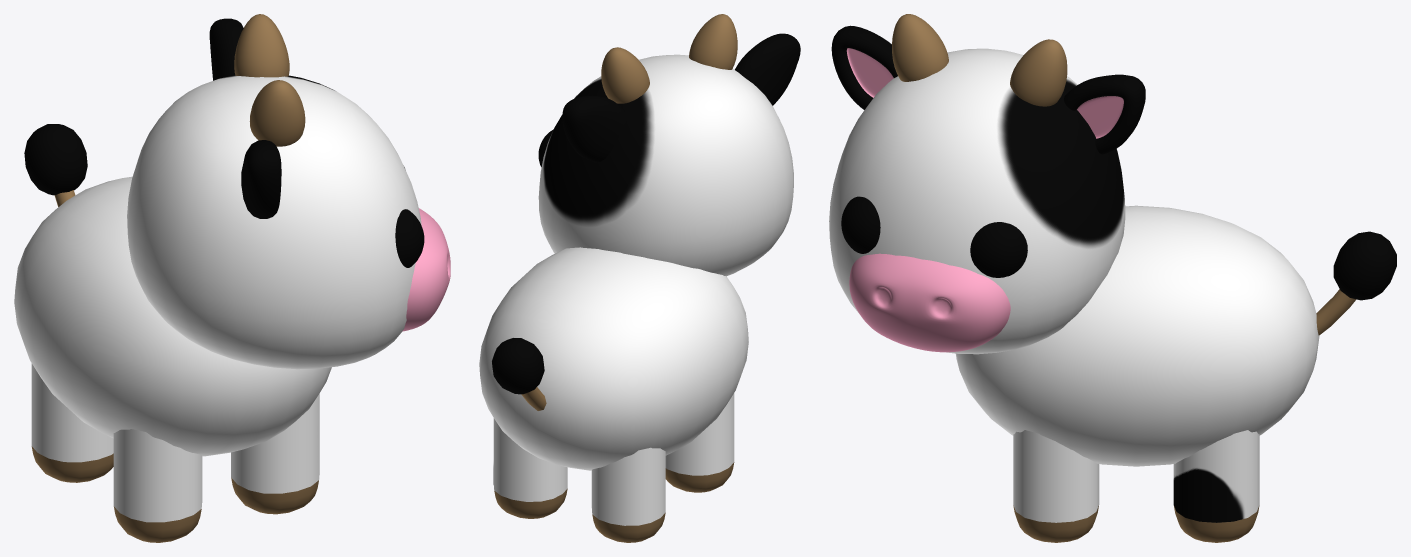
Rendered from cow.glb.
3 views of the same model, side by side, from view 1: azimuth 30°, elevation 25°; view 2: azimuth 150°, elevation 25°; view 3: azimuth 270°, elevation 25° (orthographic). The views are drawn at different scales.
Parts seen in each view (by area): view 1: face_leg, body, other_part; view 2: face_leg, body, other_part; view 3: face_leg, body, other_part.
Boxes of the visible parts, bbox=[...] form: face_leg: bbox=[31, 75, 421, 522]; body: bbox=[14, 176, 331, 456]; other_part: bbox=[24, 14, 450, 542]; face_leg: bbox=[493, 54, 793, 525]; body: bbox=[479, 247, 748, 470]; other_part: bbox=[492, 14, 800, 542]; face_leg: bbox=[829, 48, 1259, 522]; body: bbox=[956, 205, 1319, 466]; other_part: bbox=[831, 14, 1396, 542].
Size of the model in its own units: 1.95 by 3.14 by 3.32.
Materials: 5 (1 with a texture image).
